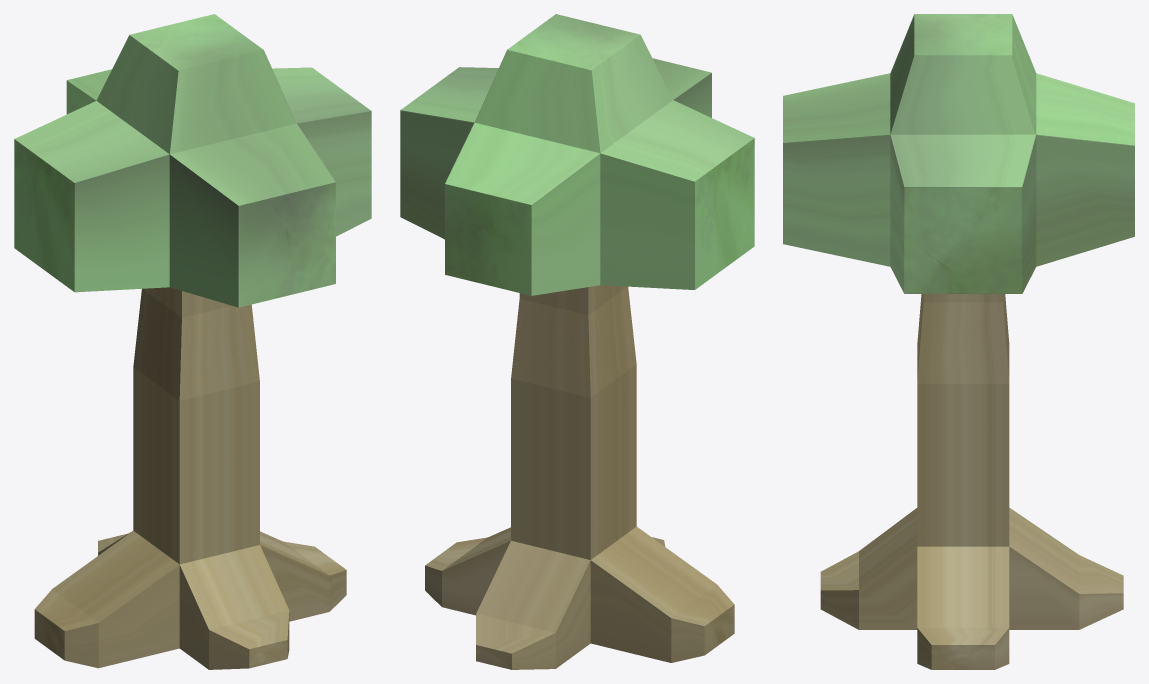
The model's file is drzewko.fbx.
The picture shows the model from 3 angles, left to right: view 1: azimuth 30°, elevation 25°; view 2: azimuth 150°, elevation 25°; view 3: azimuth 270°, elevation 25°; orthographic projection.
Parts seen in each view (by area): view 1: Cube.001, Cube; view 2: Cube.001, Cube; view 3: Cube.001, Cube.
Boxes of the visible parts, <box> form: Cube.001: <box>14,14,371,307</box>; Cube: <box>34,287,346,669</box>; Cube.001: <box>400,14,754,295</box>; Cube: <box>425,285,734,669</box>; Cube.001: <box>783,14,1134,293</box>; Cube: <box>820,294,1123,669</box>.
Size of the model in its own units: 741 by 1379 by 764.
2 materials, 2 textured.
